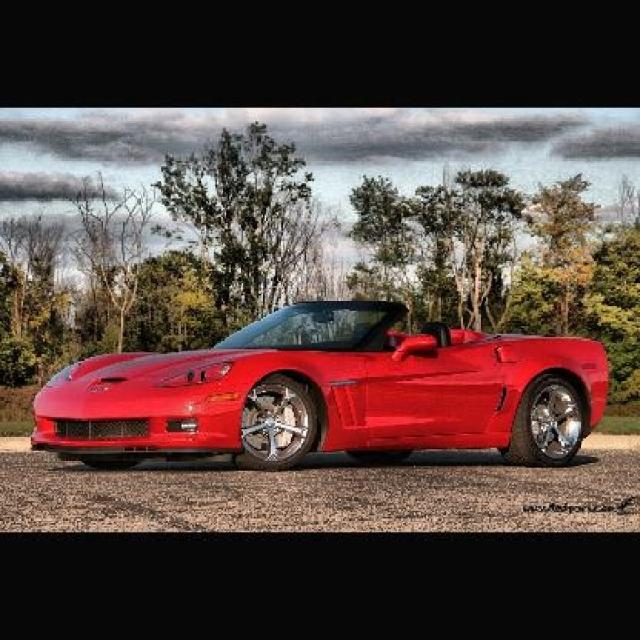red: (32, 288, 614, 468)
